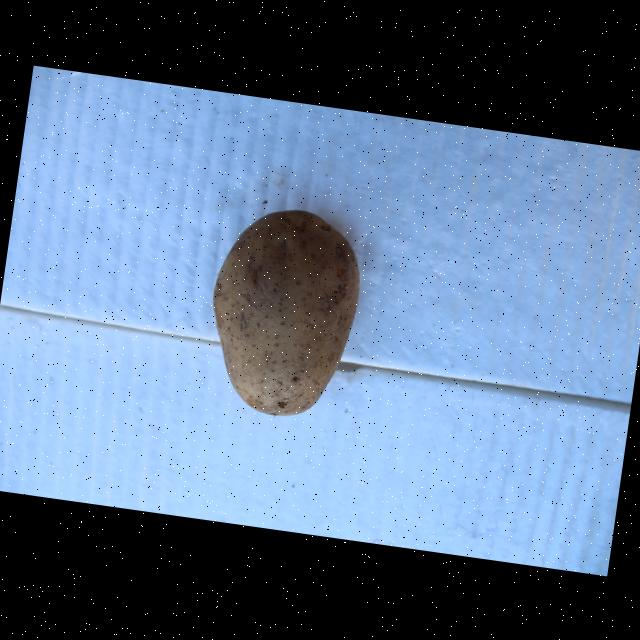Diseased-fungal potato: (194, 196, 374, 430)
